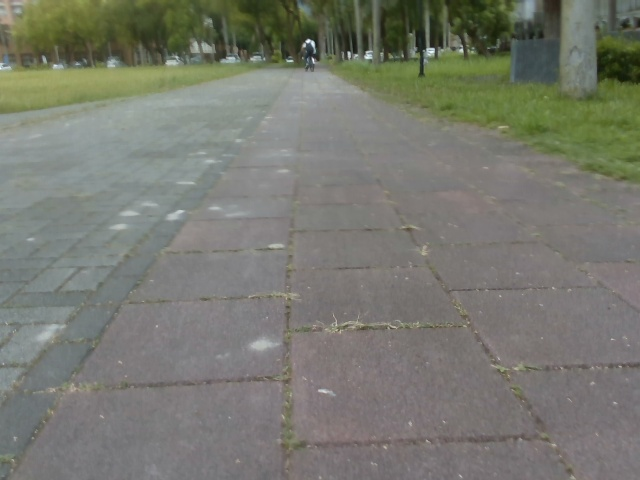grass: (318, 51, 639, 185), (0, 0, 520, 68), (0, 63, 302, 128), (598, 33, 639, 84)
road: (0, 68, 639, 479)
